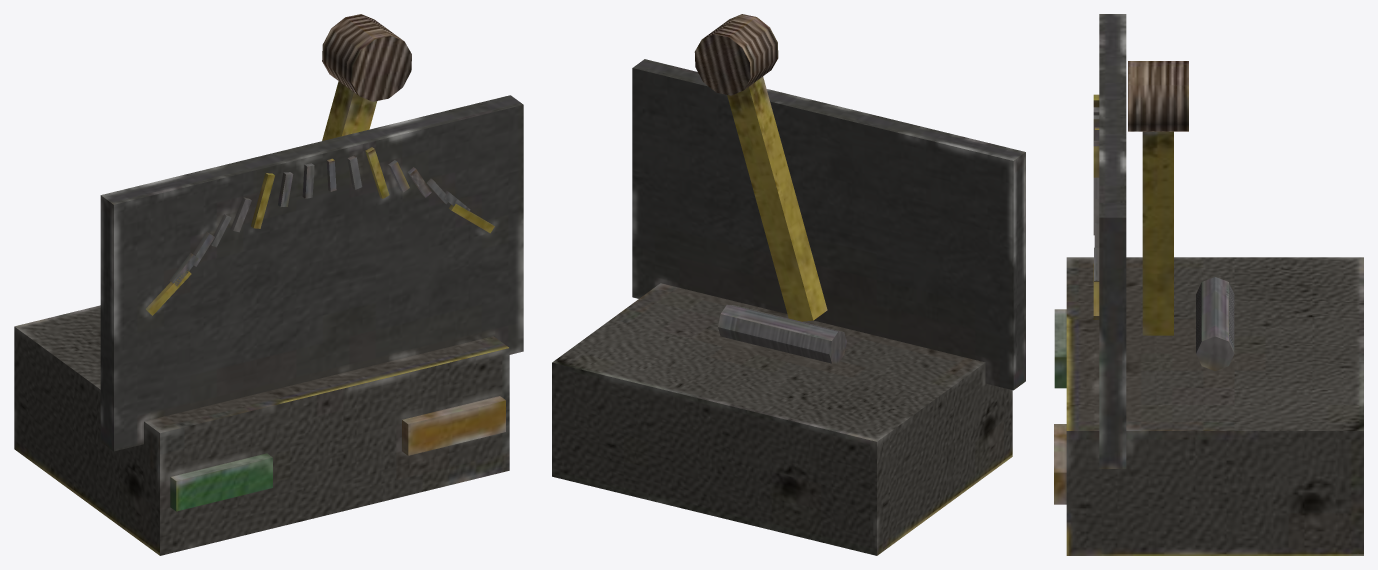
Rendered from feSignalAnalog.glb.
The picture shows the model from 3 angles, left to right: view 1: azimuth 30°, elevation 25°; view 2: azimuth 150°, elevation 25°; view 3: azimuth 270°, elevation 25°; orthographic projection. The views are drawn at different scales.
Visible parts, largest first — view 1: feSignalAnalog_Base, FeLever_Analog; view 2: feSignalAnalog_Base, FeLever_Analog; view 3: feSignalAnalog_Base, FeLever_Analog.
Boxes of the visible parts, <box> form: feSignalAnalog_Base: <box>14,95,523,555</box>; FeLever_Analog: <box>322,14,411,140</box>; feSignalAnalog_Base: <box>552,59,1025,555</box>; FeLever_Analog: <box>694,14,827,321</box>; feSignalAnalog_Base: <box>1054,14,1363,555</box>; FeLever_Analog: <box>1128,61,1188,335</box>.
Size of the model in its own units: 0.4236 by 0.4295 by 0.2722.
Materials: 1 (1 with a texture image).
